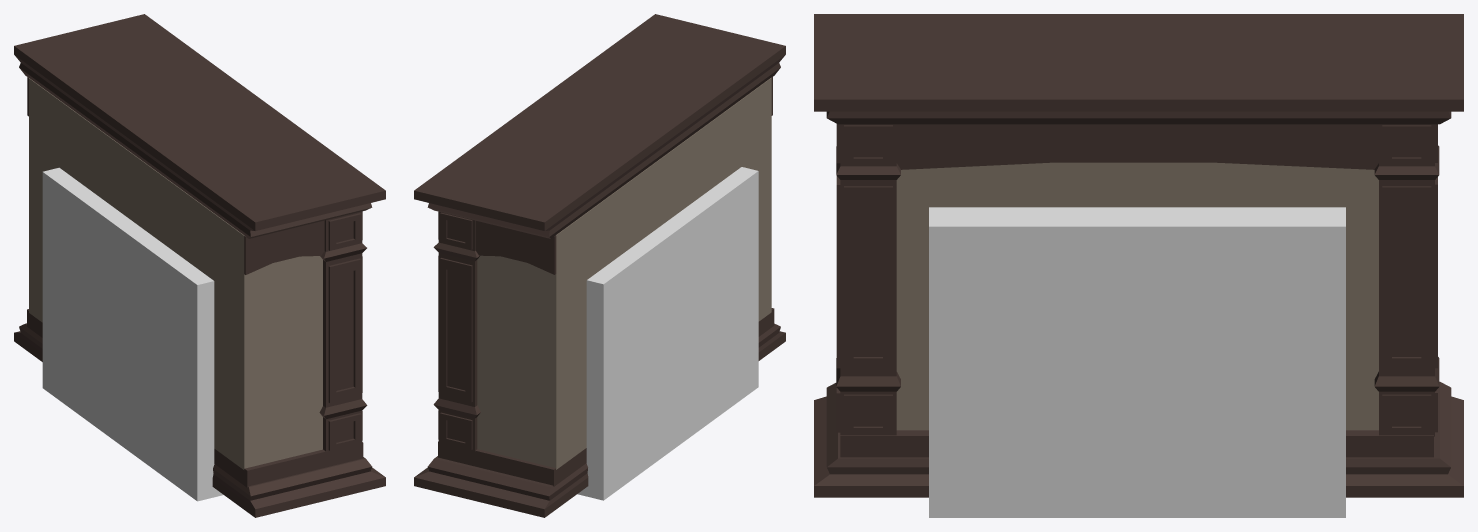
Rendered from Fireplace.fbx.
3 renders of one model, left to right at view 1: azimuth 30°, elevation 25°; view 2: azimuth 150°, elevation 25°; view 3: azimuth 270°, elevation 25°, orthographic. The views are drawn at different scales.
Visible parts, largest first — view 1: Cube.001, Cube.010, mainbuild, Cube.012, Cube, Cube.011, Cube.019, Cube.020, Cube.017, Cube.018; view 2: Cube.001, mainbuild, Cube.010, Cube.012, Cube.008, Cube.011, Cube.021, Cube.014, Cube.016, Cube.015; view 3: Cube.001, Cube.010, mainbuild, Cube.013, Cube.012, Cube.008, Cube, Cube.007, Cube.002, Cube.011, Cube.005, Cube.006 (+3 smaller).
Part boxes in pixels (<box>): Cube.001: <box>42,167,223,501</box>; Cube.010: <box>14,14,385,238</box>; mainbuild: <box>29,78,322,469</box>; Cube.012: <box>14,323,385,517</box>; Cube: <box>319,211,367,451</box>; Cube.011: <box>27,309,363,487</box>; Cube.019: <box>328,258,361,403</box>; Cube.020: <box>244,220,324,274</box>; Cube.017: <box>328,213,361,250</box>; Cube.018: <box>328,413,361,450</box>; Cube.001: <box>577,167,758,500</box>; mainbuild: <box>477,77,771,469</box>; Cube.010: <box>414,14,785,238</box>; Cube.012: <box>414,323,785,517</box>; Cube.008: <box>433,211,480,451</box>; Cube.011: <box>438,308,774,486</box>; Cube.021: <box>475,221,556,274</box>; Cube.014: <box>440,258,472,402</box>; Cube.016: <box>440,212,472,249</box>; Cube.015: <box>440,412,472,449</box>; Cube.001: <box>929,207,1345,517</box>; Cube.010: <box>814,14,1463,124</box>; mainbuild: <box>896,162,1378,430</box>; Cube.013: <box>896,124,1378,169</box>; Cube.012: <box>814,381,1463,497</box>; Cube.008: <box>1374,124,1439,436</box>; Cube: <box>836,124,900,435</box>; Cube.007: <box>1382,186,1431,370</box>; Cube.002: <box>844,186,892,370</box>; Cube.011: <box>840,430,1433,457</box>; Cube.005: <box>1382,125,1431,165</box>; Cube.006: <box>1382,394,1431,434</box>.
Size of the model in its own units: 246 by 468 by 667.
